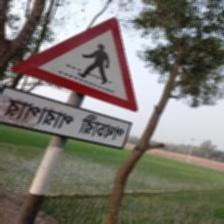Pedestrian-crossing: (0, 15, 140, 150)
